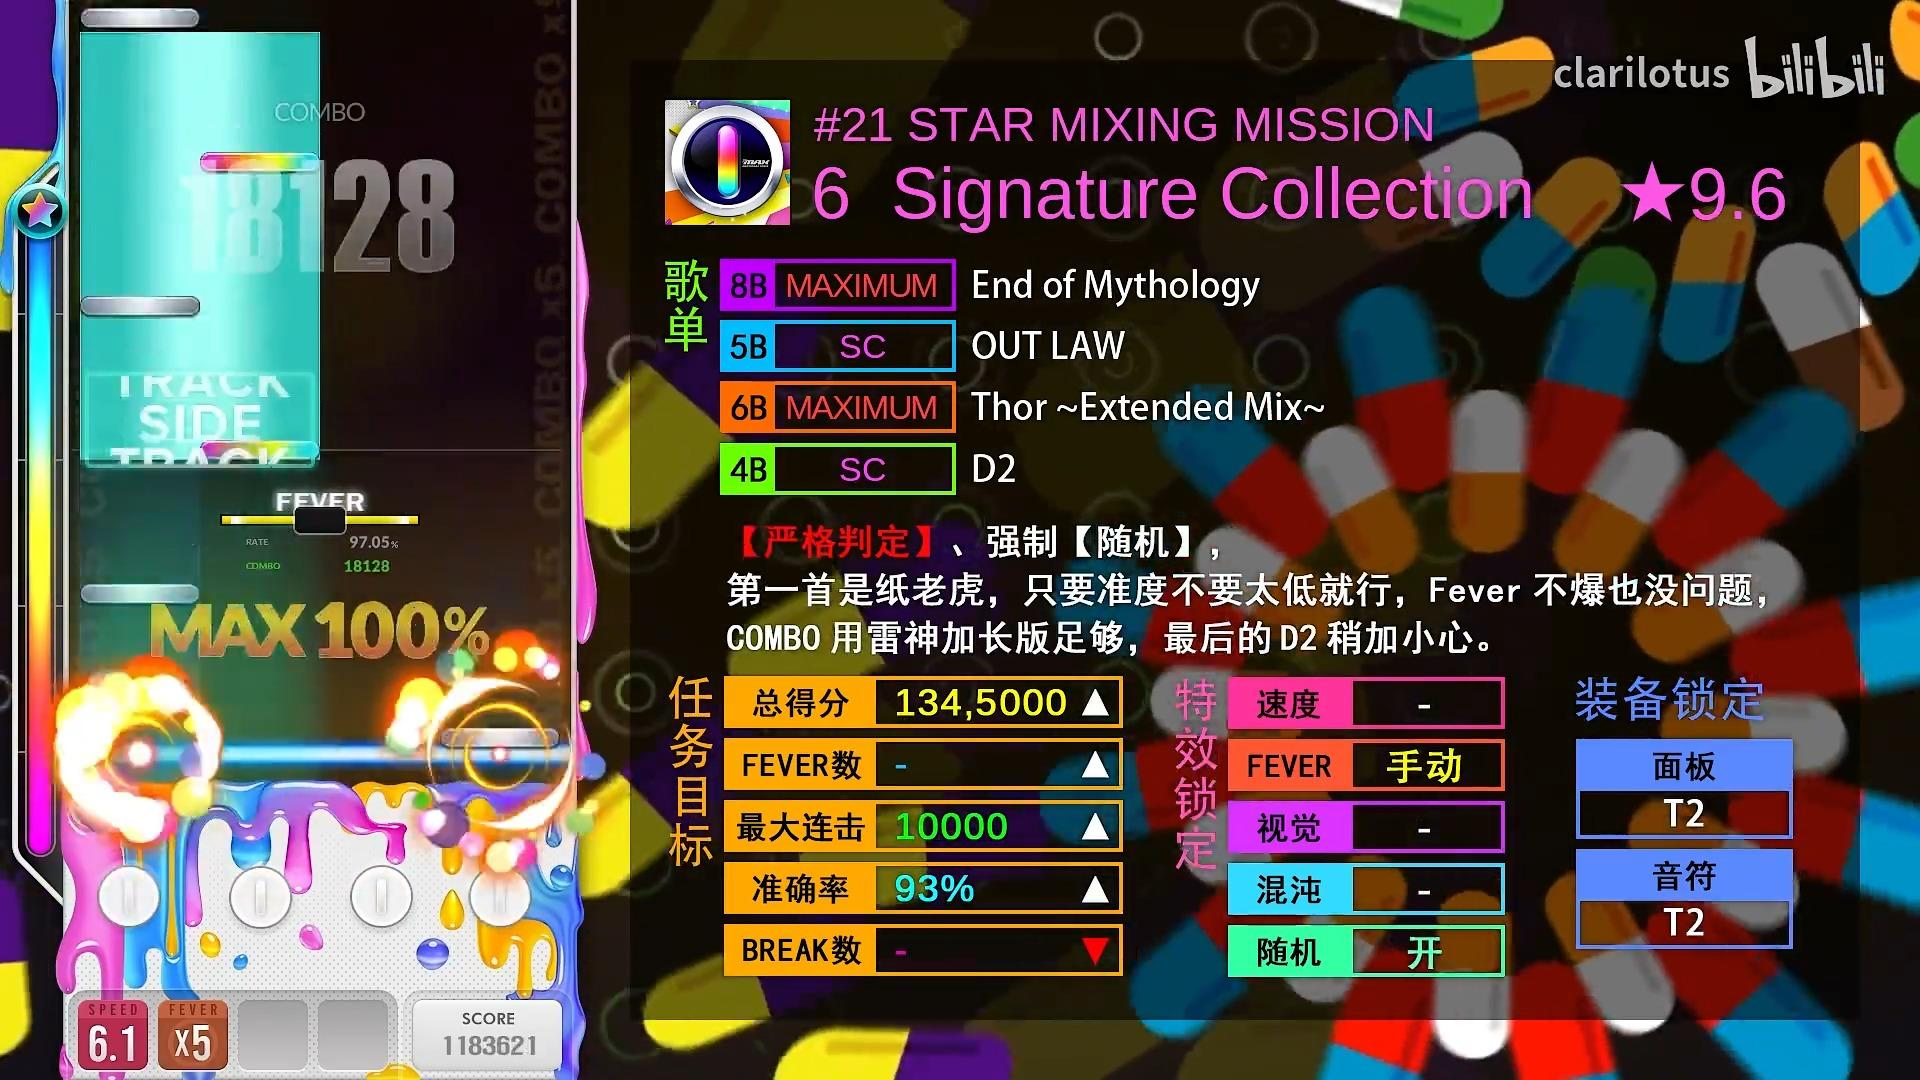note: (200, 439, 319, 463), (199, 152, 319, 174), (80, 295, 200, 318), (440, 727, 560, 749), (80, 583, 199, 605), (79, 9, 199, 29)
side-end: (79, 30, 320, 50)
side-start: (80, 438, 322, 459)
